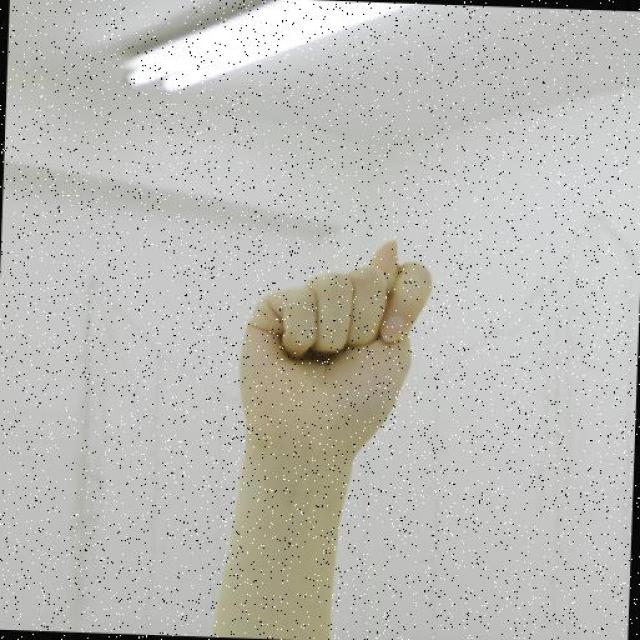T: (236, 233, 436, 461)
